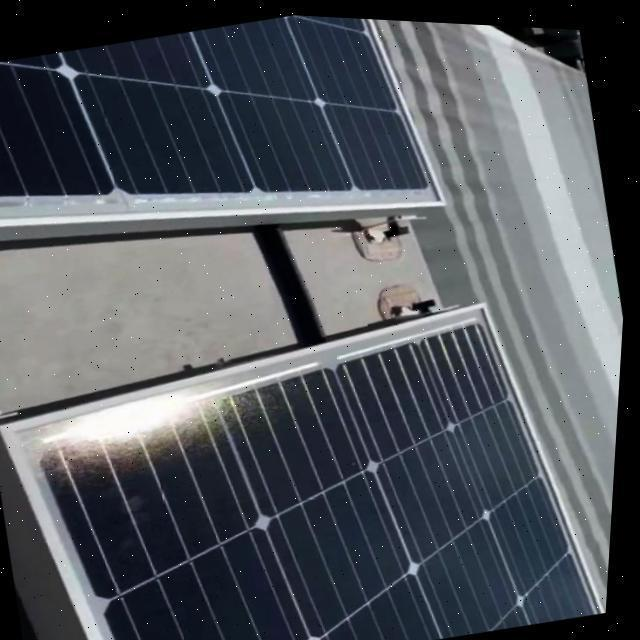Normal Solar Panel: (0, 258, 628, 640), (0, 0, 456, 299)
